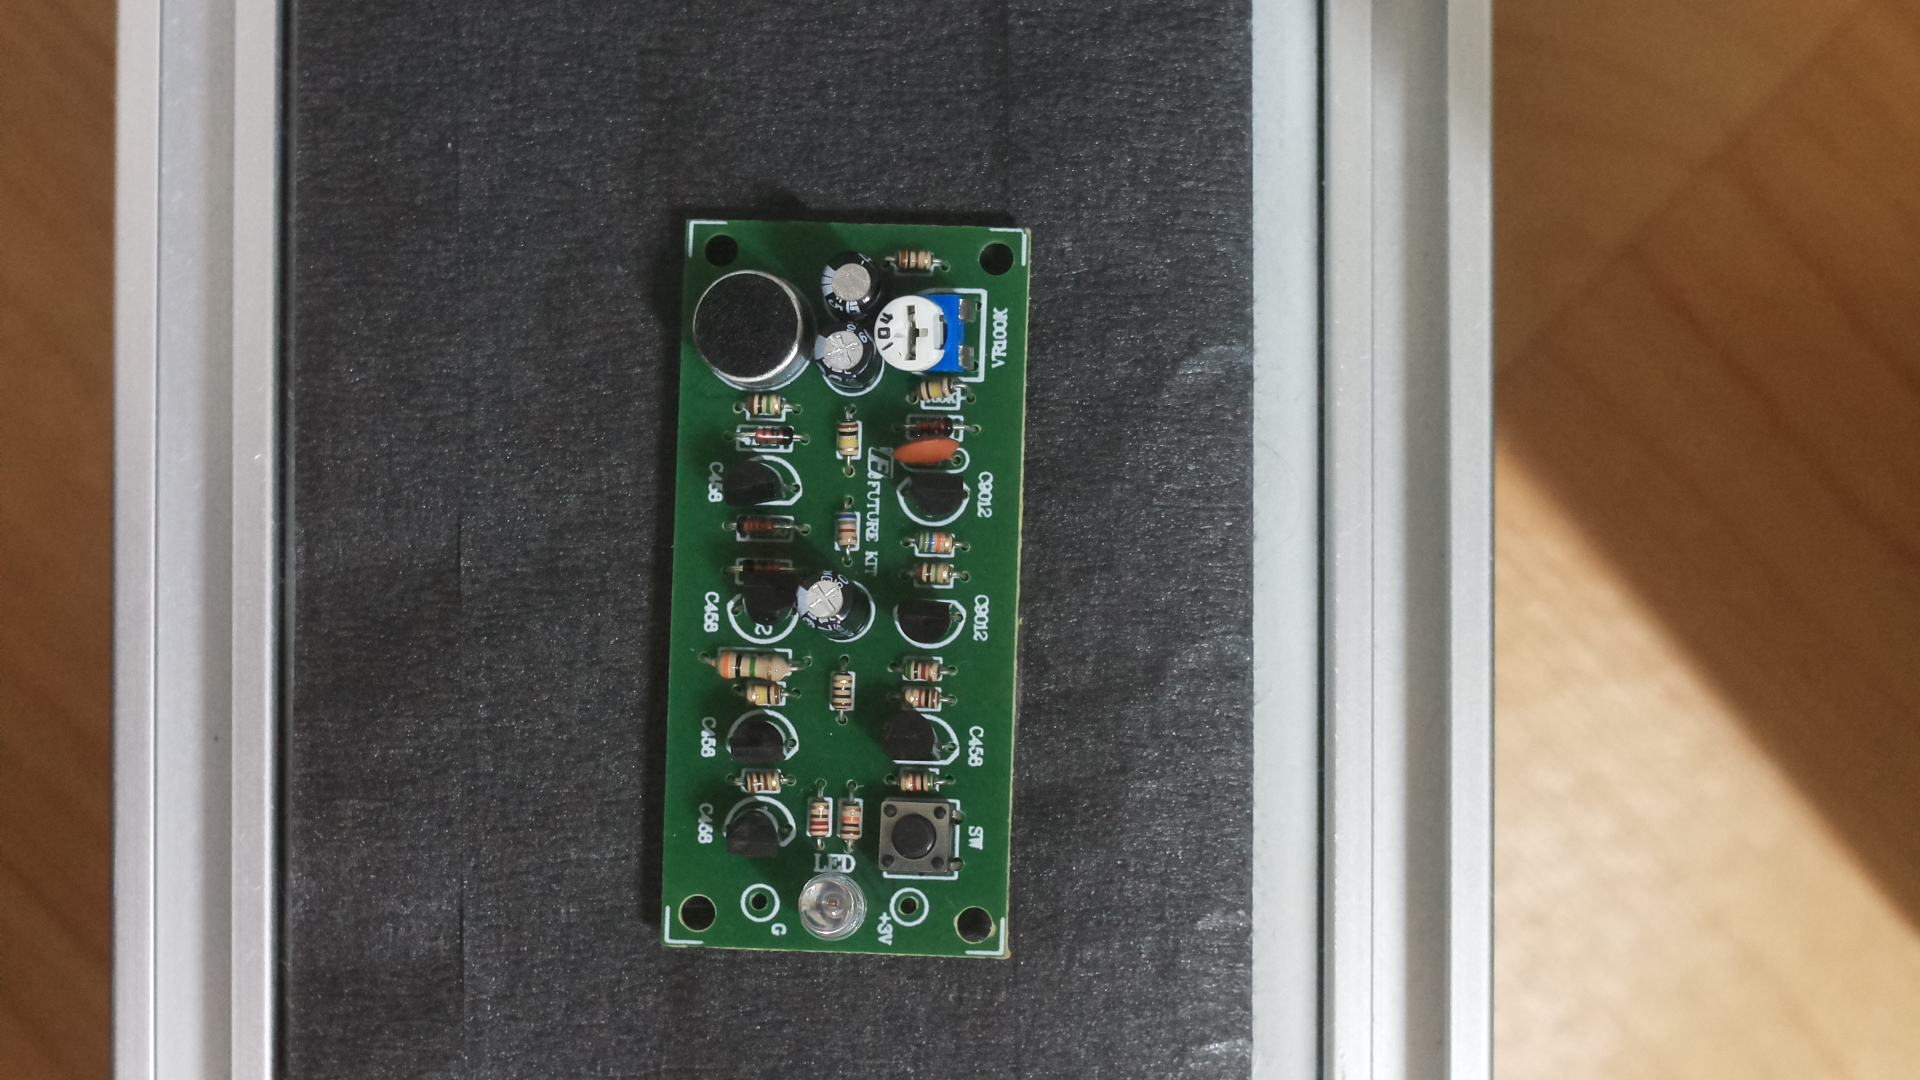A_Normal: (655, 189, 1039, 972)
